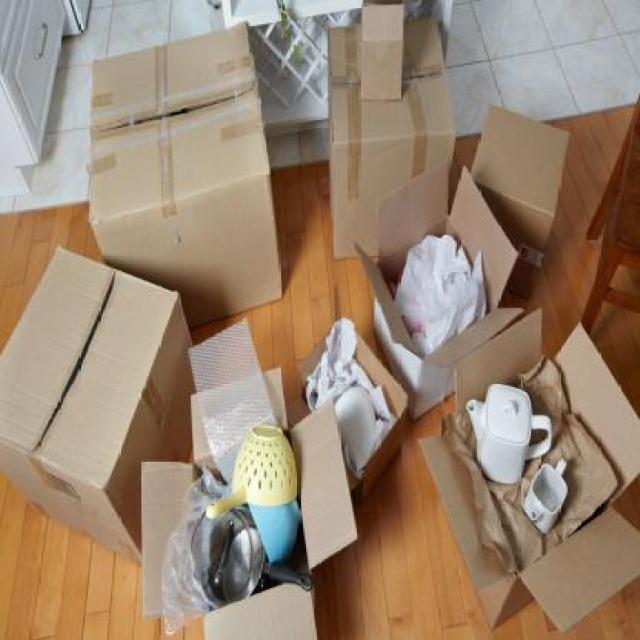box: (76, 17, 312, 320), (435, 298, 640, 640), (133, 361, 364, 640), (0, 236, 178, 573), (352, 148, 519, 416), (325, 1, 464, 263), (474, 92, 574, 258)
